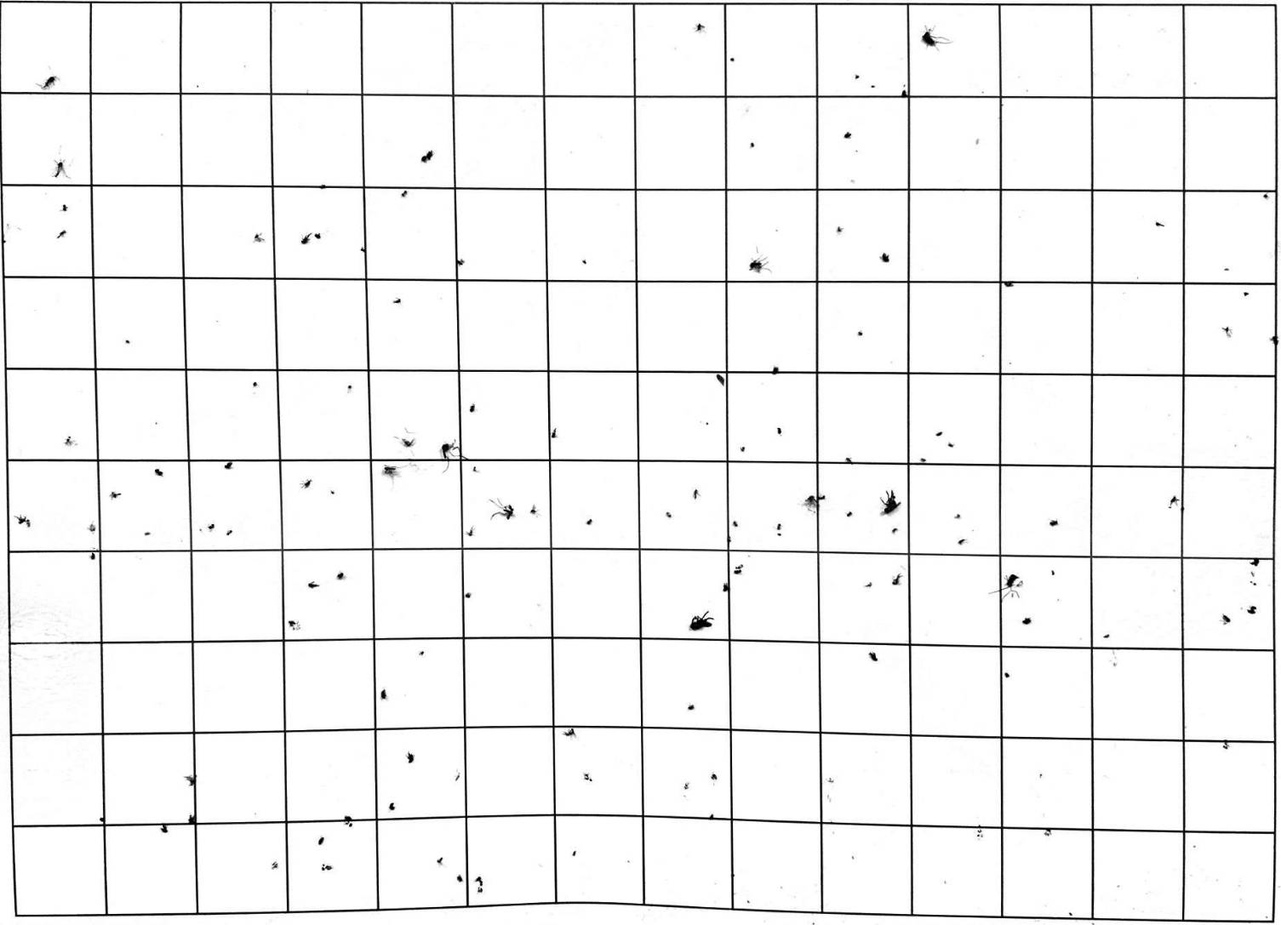fly: (877, 489, 902, 516), (686, 609, 714, 631)
test: (439, 438, 470, 474), (987, 571, 1023, 601), (920, 24, 953, 50), (485, 497, 517, 520), (746, 255, 773, 275), (803, 493, 827, 512), (37, 72, 60, 91), (52, 157, 69, 180), (383, 463, 399, 479), (183, 774, 200, 788), (299, 231, 314, 246), (420, 148, 435, 163), (15, 514, 31, 528), (890, 573, 903, 587), (714, 372, 726, 387), (250, 232, 265, 244), (186, 813, 199, 826), (299, 477, 314, 488), (878, 252, 890, 265), (564, 727, 577, 739), (694, 22, 706, 35), (405, 751, 416, 765), (868, 651, 880, 663), (465, 525, 477, 537), (342, 815, 354, 827), (474, 875, 485, 888), (1221, 612, 1232, 625), (1246, 604, 1259, 615), (1168, 495, 1178, 509), (1221, 325, 1231, 339), (548, 427, 559, 439), (154, 467, 165, 479), (1249, 556, 1261, 567), (528, 504, 539, 515), (582, 772, 593, 783), (63, 435, 74, 446), (691, 488, 701, 500), (734, 564, 744, 576), (402, 437, 414, 447), (223, 461, 235, 471), (108, 491, 123, 499), (379, 688, 389, 700), (55, 229, 67, 239), (307, 580, 320, 589), (319, 863, 333, 871), (1271, 333, 1279, 347), (721, 583, 731, 594), (391, 296, 402, 306), (315, 836, 326, 846), (1047, 518, 1059, 527), (770, 366, 780, 376), (87, 522, 97, 532), (435, 854, 444, 865), (454, 258, 466, 266), (1153, 221, 1166, 228), (844, 456, 853, 466), (336, 571, 345, 581), (313, 231, 323, 240), (160, 823, 169, 833), (455, 874, 465, 883), (1044, 826, 1053, 836), (900, 89, 908, 100), (1004, 280, 1015, 288), (775, 522, 784, 531), (468, 404, 477, 413), (345, 384, 354, 393), (835, 225, 844, 234), (855, 330, 865, 338), (581, 257, 589, 267), (388, 801, 396, 811), (1021, 618, 1032, 625), (946, 440, 954, 449), (664, 510, 673, 518), (776, 426, 784, 435), (454, 772, 462, 781), (710, 772, 718, 781), (1261, 193, 1270, 201), (400, 189, 408, 198), (686, 704, 696, 711), (287, 620, 297, 627), (731, 520, 739, 528), (585, 517, 593, 525), (226, 529, 234, 537), (207, 522, 215, 530), (359, 246, 367, 254), (89, 553, 97, 561), (844, 131, 852, 139), (853, 73, 861, 81), (61, 204, 69, 212), (863, 581, 872, 588), (97, 817, 107, 823), (891, 526, 899, 533), (1049, 568, 1056, 576), (1004, 671, 1011, 679), (934, 430, 942, 437), (729, 56, 737, 63), (319, 182, 326, 190), (463, 592, 472, 598), (846, 511, 853, 518), (958, 537, 965, 544), (954, 513, 961, 520), (1103, 633, 1110, 640), (471, 466, 478, 473), (708, 813, 715, 820), (870, 83, 877, 90), (749, 142, 756, 149), (252, 380, 258, 388), (143, 531, 152, 536), (920, 457, 927, 463), (776, 532, 783, 538), (123, 339, 131, 344), (739, 446, 745, 452), (1243, 291, 1249, 297), (329, 490, 336, 495), (572, 850, 577, 857), (1224, 266, 1229, 273), (419, 651, 425, 655)
